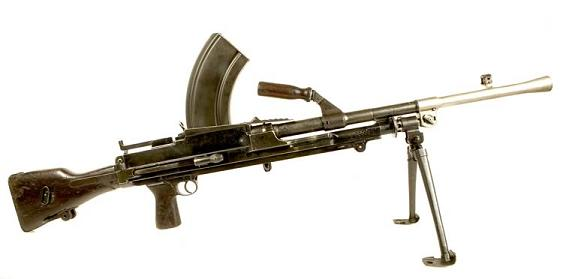rifle: (8, 34, 545, 269)
